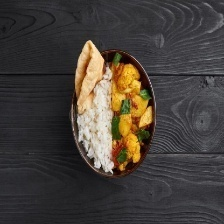rice: (81, 103, 112, 178)
